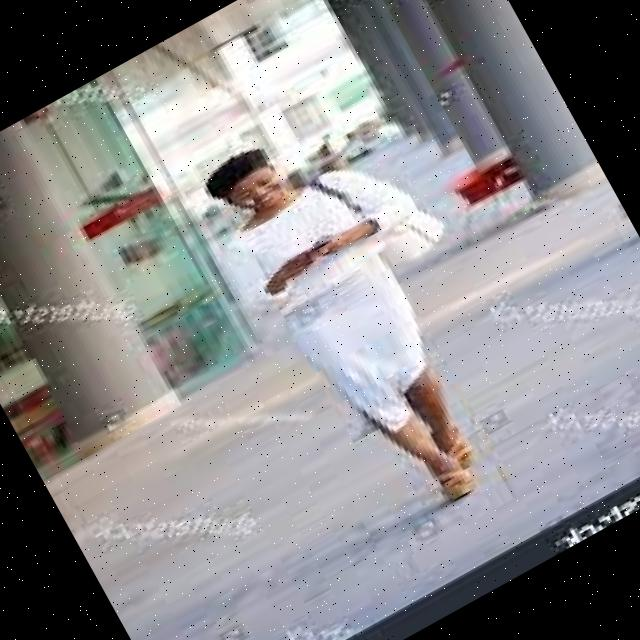Person: (182, 84, 563, 541)
